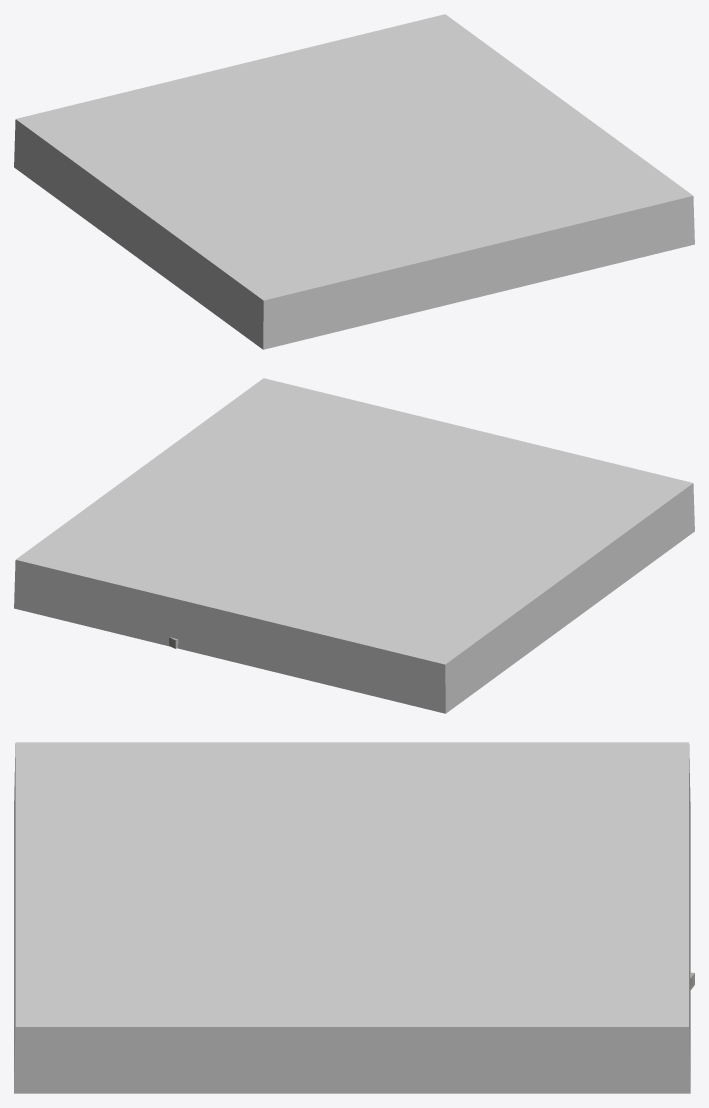
File: Rubble.gltf
The picture shows the model from 3 angles, top to bottom: view 1: azimuth 30°, elevation 25°; view 2: azimuth 150°, elevation 25°; view 3: azimuth 270°, elevation 25°; orthographic projection. The views are drawn at different scales.
Parts seen in each view (by area): view 1: COL; view 2: COL; view 3: COL.
Boxes of the visible parts, <box> form: COL: <box>14,14,694,349</box>; COL: <box>14,378,694,713</box>; COL: <box>14,742,690,1093</box>.
Bounding box in the file's own units: 65.11 × 7 × 65.53.
Materials: 1 (1 with a texture image).
